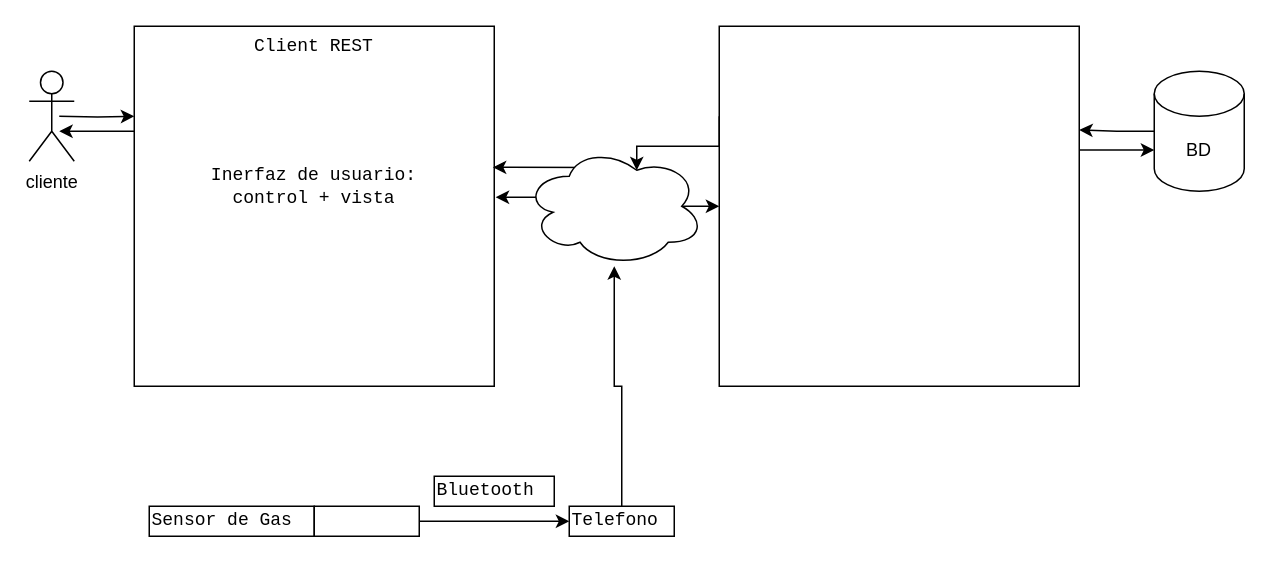
The diagram is 1271 pixels wide and 563 high, and some of its shapes have lost their labels. The shapes that lost their labels are listed below. From the top down, each one's centre as x and y in pixels, then its label:
At (x=613, y=205): "Mediante direccion HTTP".
At (x=898, y=205): "API REST Lógica Del Negocio".
At (x=366, y=520): "Arduino".
